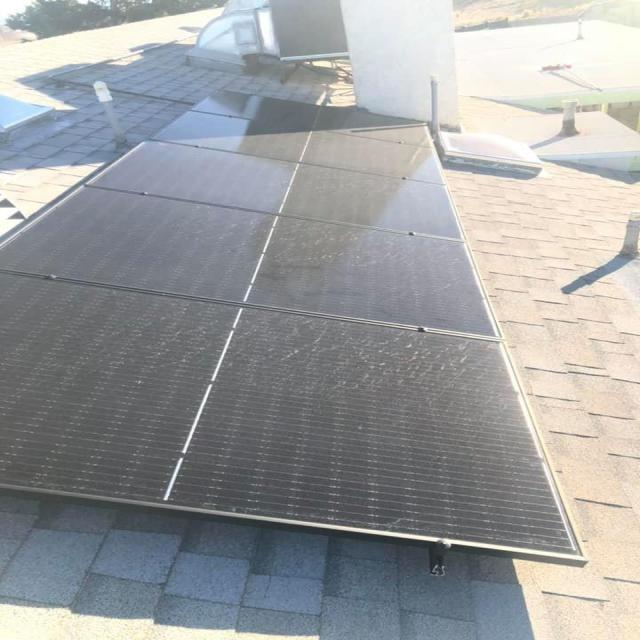Dusty: (83, 235, 378, 471)
